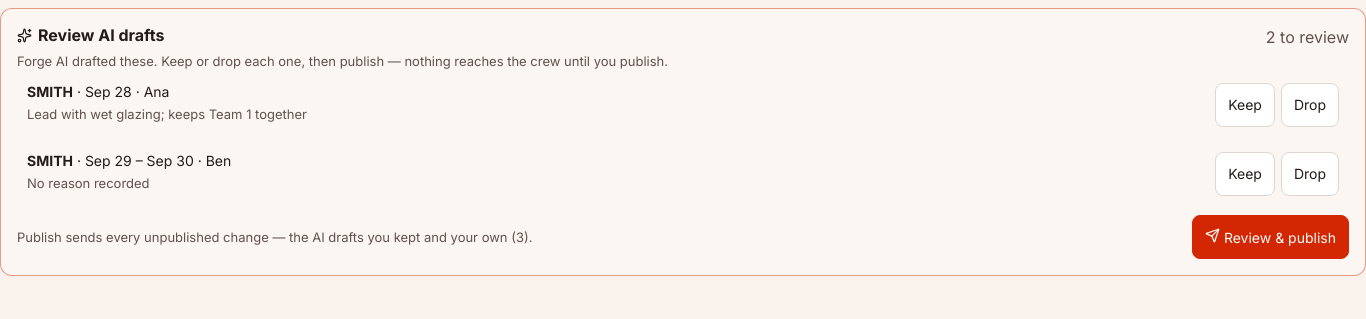
it: the Review AI drafts card › a Drop that finds the draft changed — published by someone else meanwhile — claims no delete and says so
Click the button "Keep" in the row of "Sep 28" at (1245,104), box [1215,82,1275,126]
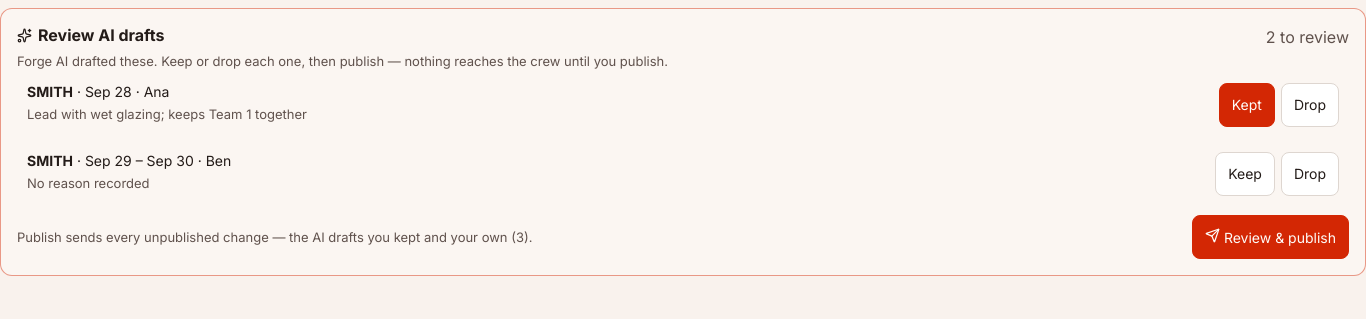
Click the button "Drop" in the row of "Sep 28" at (1310,104), box [1281,82,1339,126]
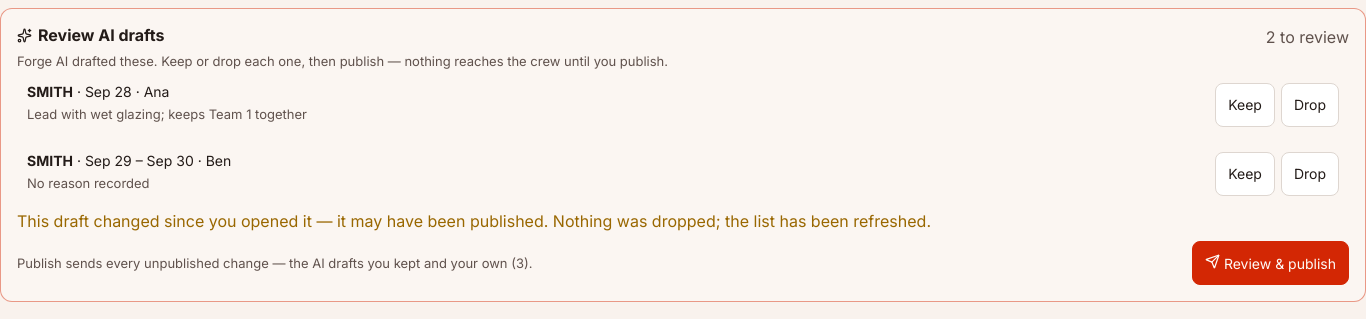
Expected: the message shows "This draft changed since you opened it — it may have been published. Nothing was dropped; the list has been refreshed.", [17,210,931,230]
